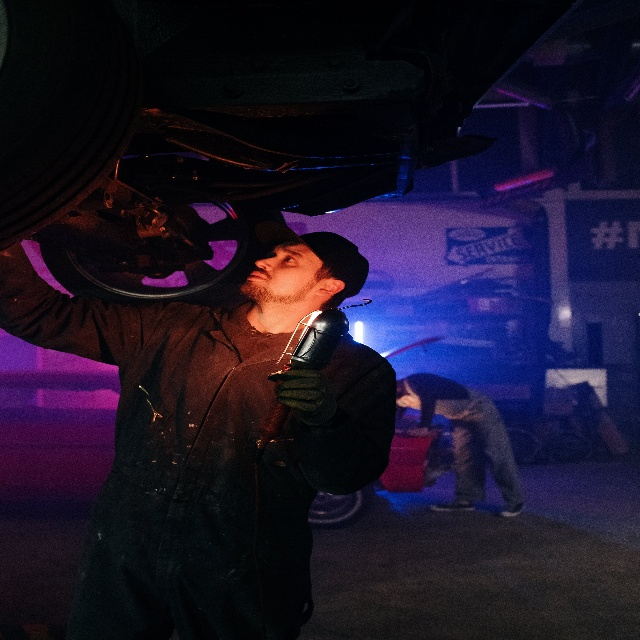Guantes: (267, 361, 330, 417)
